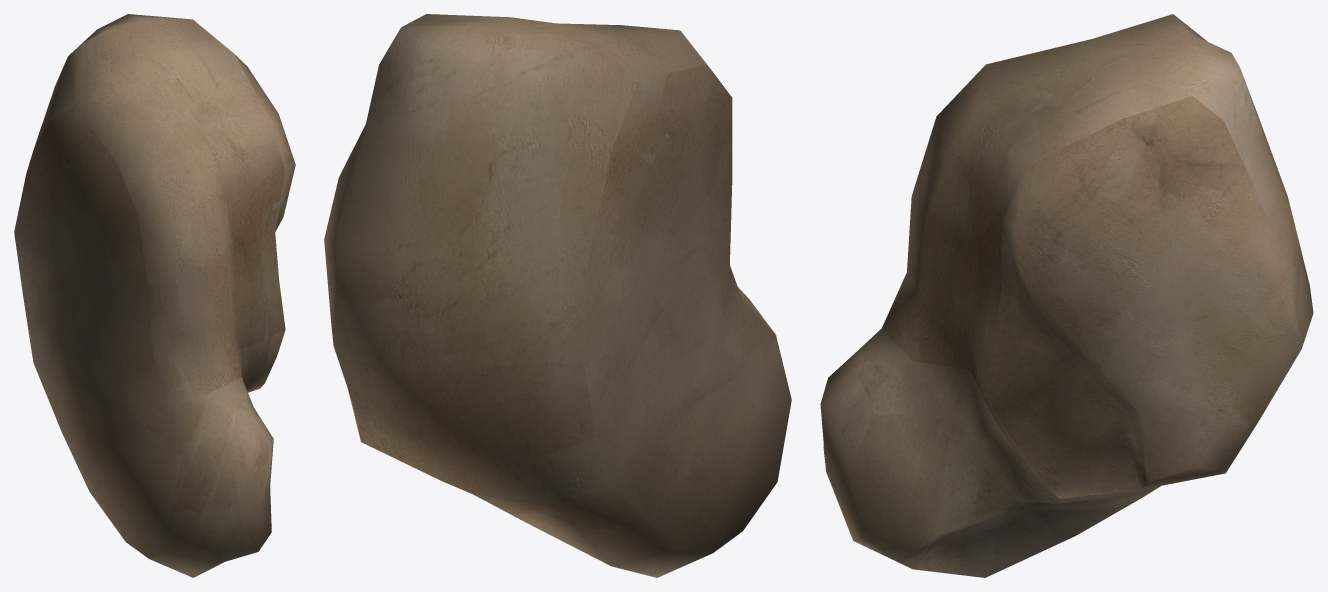
File: props_coalmines_boulder4_large.glb
3 views of the same model, side by side, from view 1: azimuth 30°, elevation 25°; view 2: azimuth 150°, elevation 25°; view 3: azimuth 270°, elevation 25° (orthographic). The views are drawn at different scales.
Parts seen in each view (by area): view 1: models/props_coalmines/boulder4_large; view 2: models/props_coalmines/boulder4_large; view 3: models/props_coalmines/boulder4_large.
Boxes of the visible parts, x1,y1,x2,y2 form: models/props_coalmines/boulder4_large: [14, 14, 295, 577]; models/props_coalmines/boulder4_large: [324, 14, 791, 577]; models/props_coalmines/boulder4_large: [820, 14, 1313, 577].
Size of the model in its own units: 79.12 by 179 by 143.
Materials: 1 (1 with a texture image).
